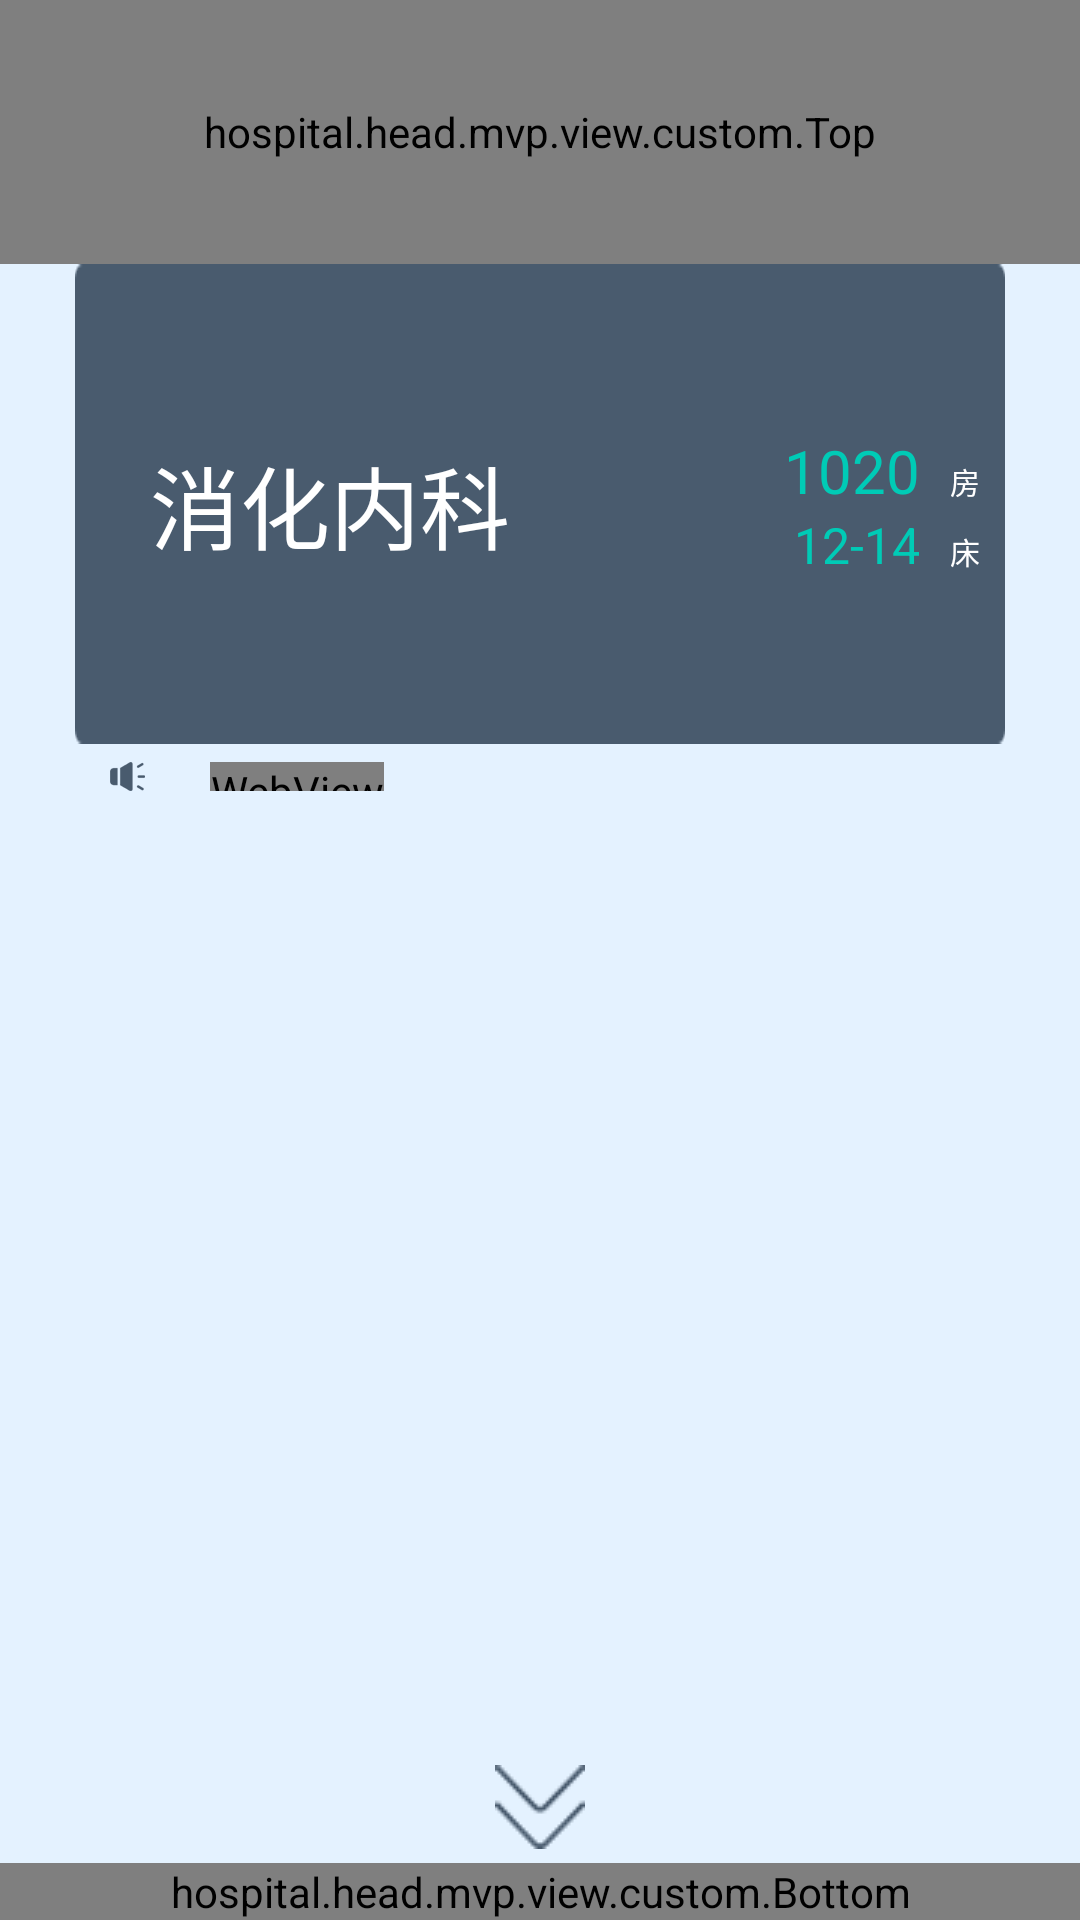

Icons on this 1080px x 1920px Android screen, each with its box as box=[x1, y1, x2, y2]:
marquee: box=[110, 762, 145, 791]
